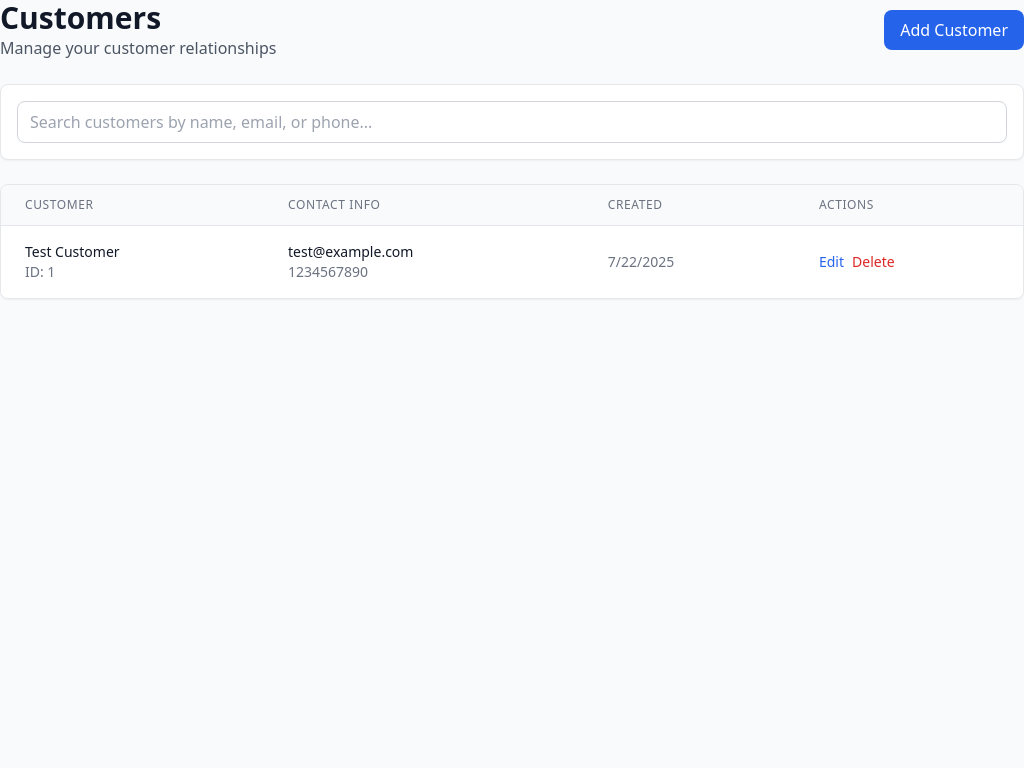
Test case: CustomersPage › opens and closes the Add Customer modal
This screenshot has width=1024, height=768.
Click the button "Add Customer" at (954, 30), box [884,10,1023,50]
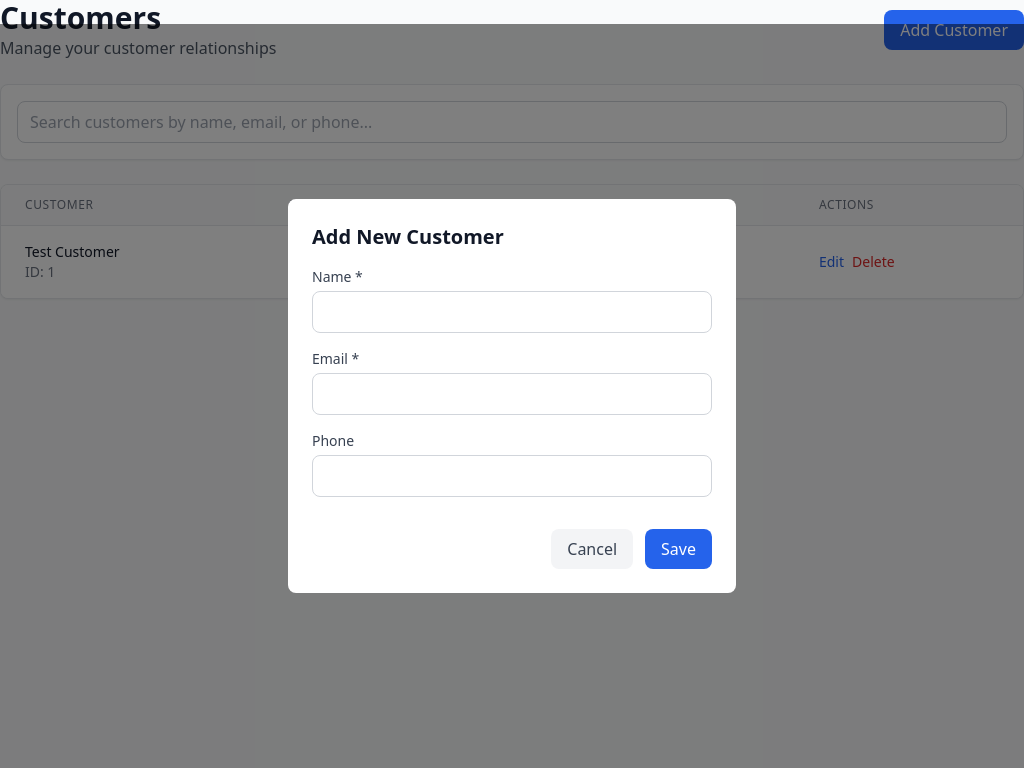
Check: the heading "Add New Customer" is shown, box [312,223,504,250]
Click the button "Cancel" at (592, 549), box [551,529,633,569]
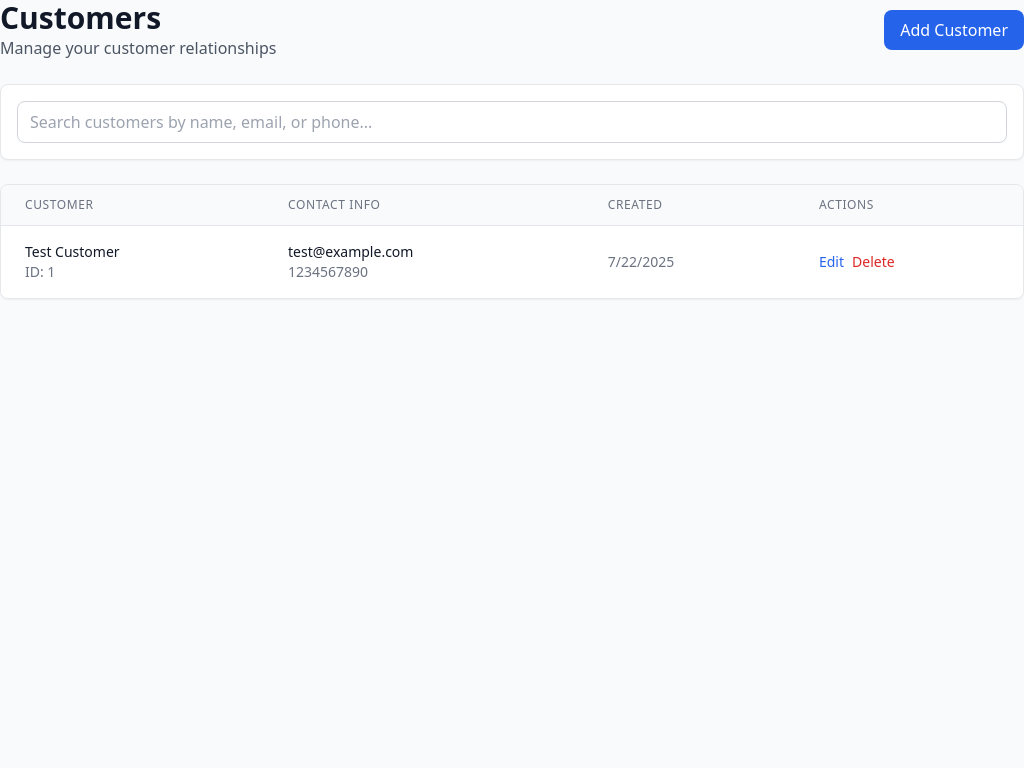
Check: the heading "Add New Customer" is gone
